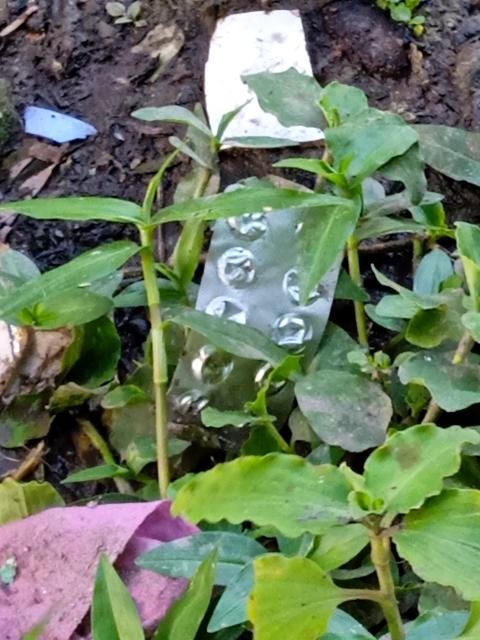medicine: (159, 168, 353, 444)
